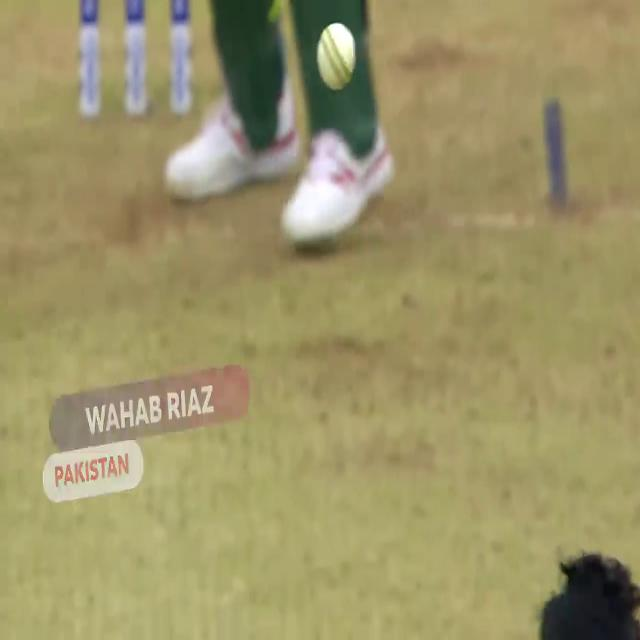ball: (316, 20, 359, 94)
